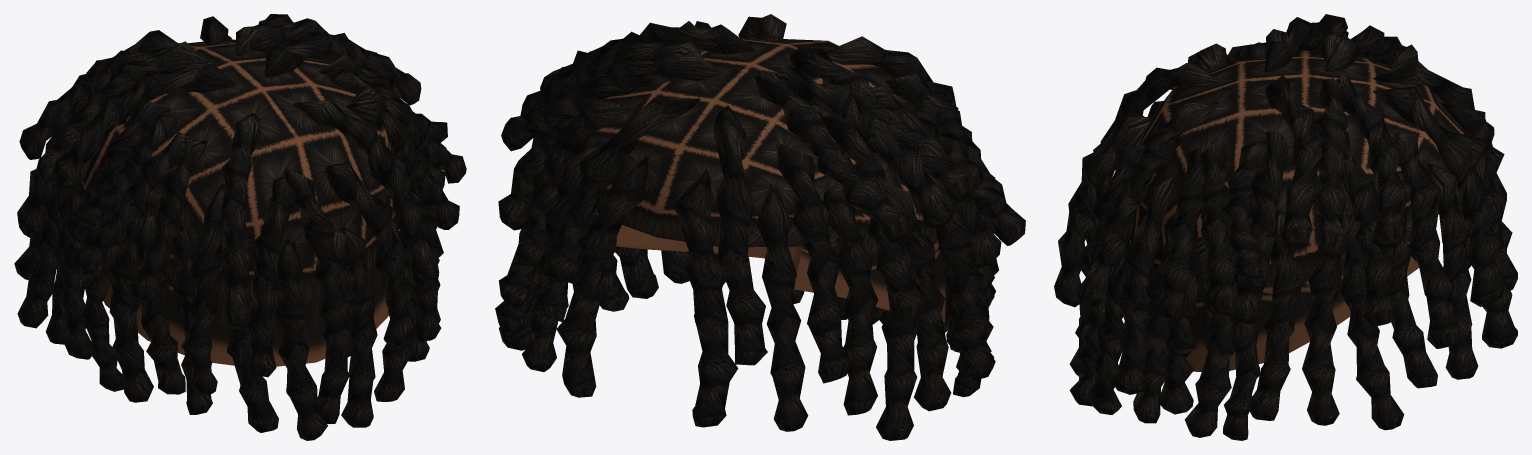
3 renders of one model, left to right at view 1: azimuth 30°, elevation 25°; view 2: azimuth 150°, elevation 25°; view 3: azimuth 270°, elevation 25°, orthographic. The views are drawn at different scales.
Visible parts, largest first — view 1: geometry_0; view 2: geometry_0; view 3: geometry_0.
Part boxes in pixels (x1,y1,x2,y2): geometry_0: (14,14,466,440); geometry_0: (495,14,1025,440); geometry_0: (1054,14,1517,440).
Size of the model in its own units: 1.7 by 1.3 by 1.64.
Materials: 1 (1 with a texture image).
